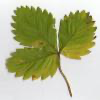Strawberry leaf: (10, 4, 60, 54), (59, 7, 99, 60), (5, 47, 62, 81)
